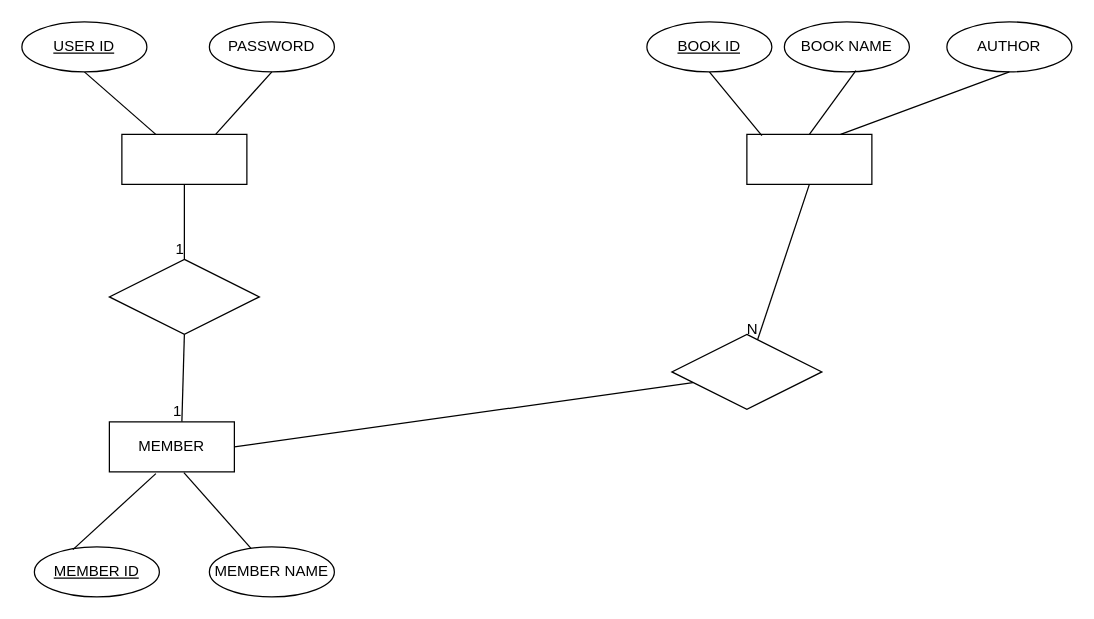
The diagram is 1094 pixels wide and 619 high, and some of its shapes have lost their labels. The shapes that lost their labels are listed below. From the top down, each one's centre as x and y in pixels, then its label:
(184,158): LOGIN
(809,158): BOOK
(183,296): HAS
(746,371): BORROW
